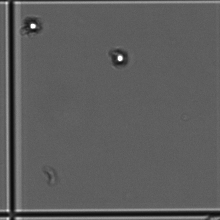Living Cell: (106, 43, 128, 68), (22, 14, 45, 34)
